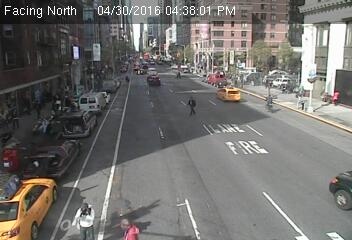neg: (129, 173, 166, 222), (220, 88, 248, 126), (256, 90, 280, 122), (114, 97, 136, 125)
pos: (69, 195, 100, 237), (182, 93, 202, 119), (5, 107, 22, 130)
